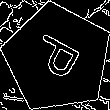P_SE: (27, 30, 88, 86)
